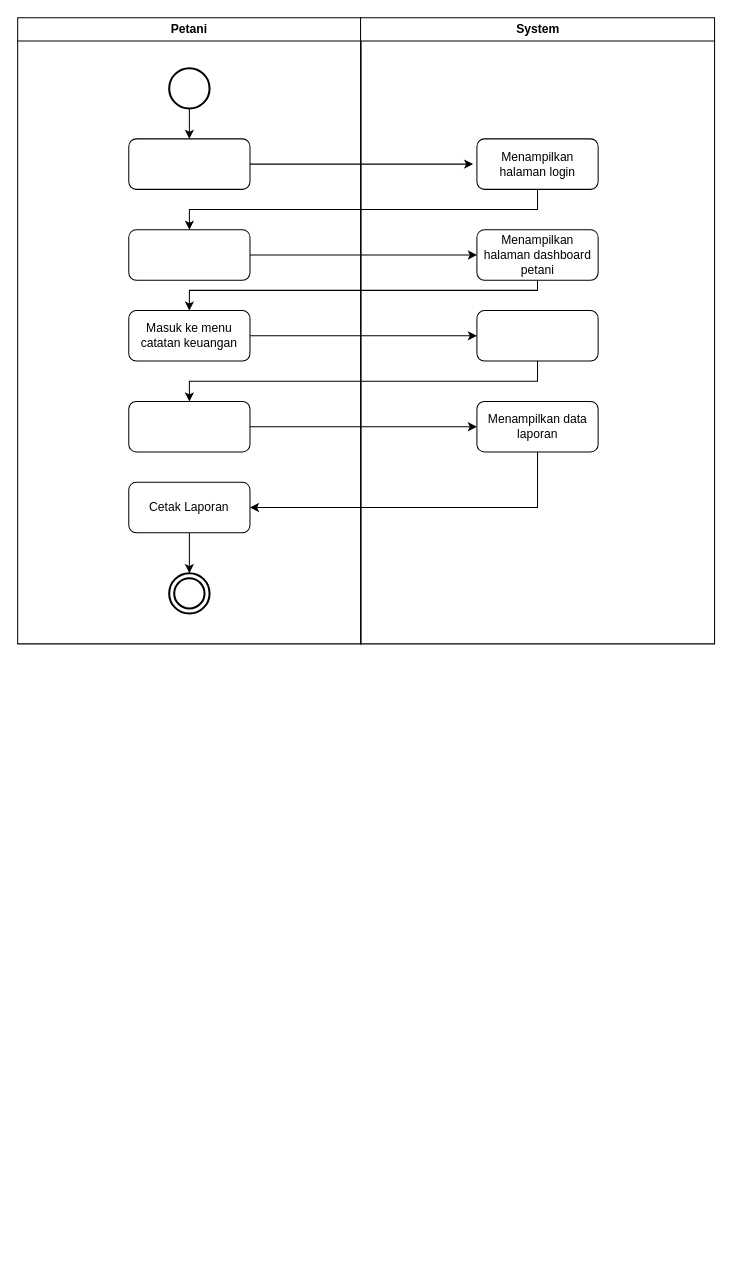
The diagram is 732 pixels wide and 1278 high, and some of its shapes have lost their labels. Each missing label, with the centre of its shape:
"Login" goes at pixel 189 254.
"Masuk ke web" goes at pixel 189 163.
"Menampilkan laporan keuangan" goes at pixel 537 335.
"Pilih jenis laporan dan tahun" goes at pixel 189 426.
